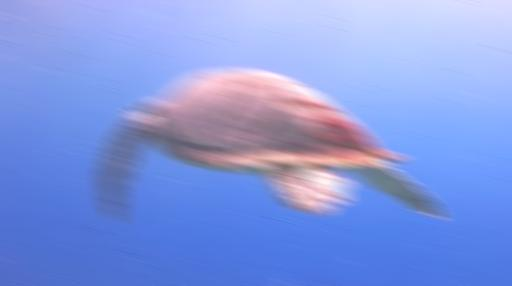Fish: (99, 70, 440, 219)
